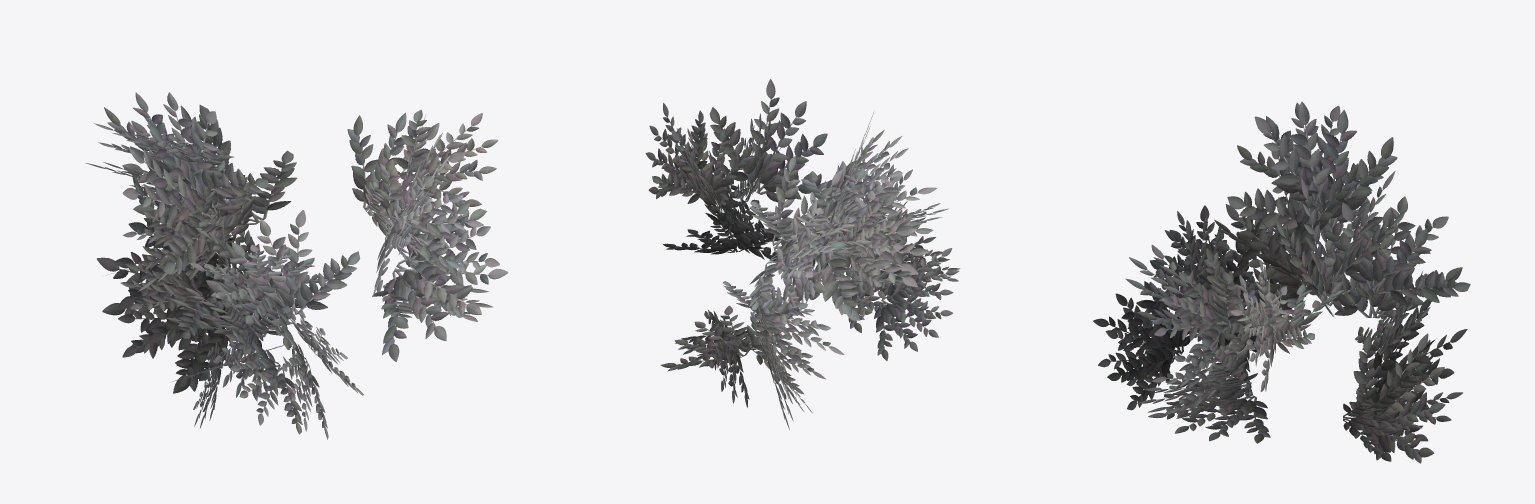
The model's file is oak_l2.gltf.
3 views of the same model, side by side, from view 1: azimuth 30°, elevation 25°; view 2: azimuth 150°, elevation 25°; view 3: azimuth 270°, elevation 25° (orthographic). The views are drawn at different scales.
Parts seen in each view (by area): view 1: oak_l2; view 2: oak_l2; view 3: oak_l2.
Part boxes in pixels (x1=…): oak_l2: x1=85, y1=92, x2=508, y2=439; oak_l2: x1=645, y1=79, x2=960, y2=430; oak_l2: x1=1093, y1=101, x2=1470, y2=463.
Size of the model in its own units: 15.69 by 13.35 by 14.32.
Materials: 1 (1 with a texture image).
